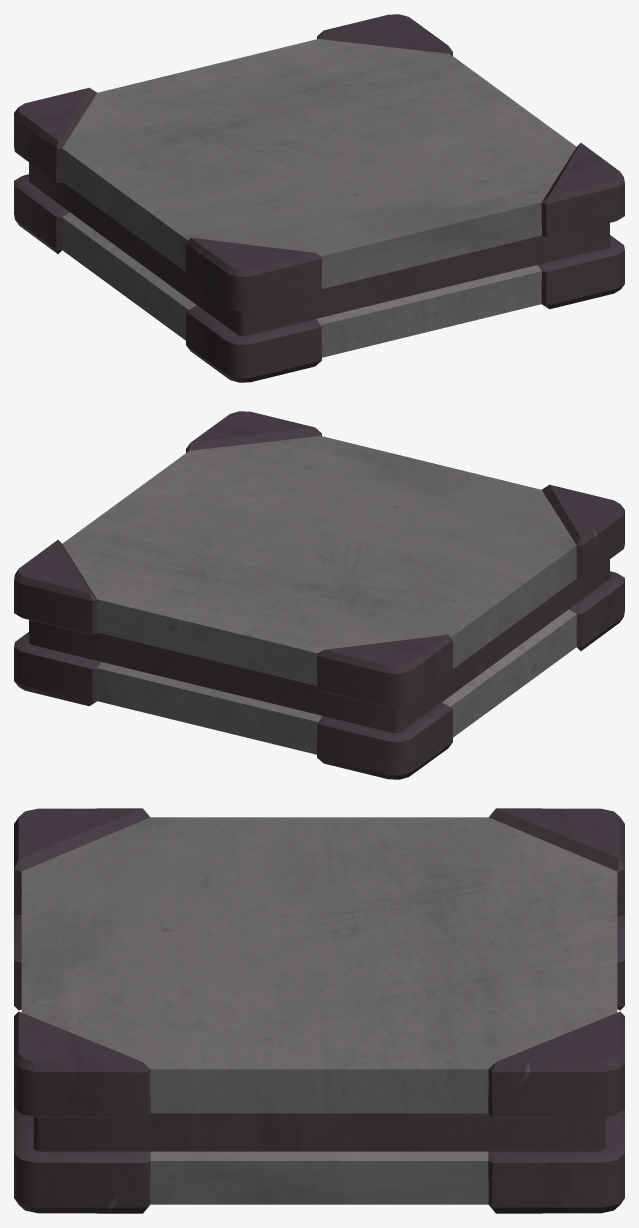
File: metal.glb
3 renders of one model, top to bottom at view 1: azimuth 30°, elevation 25°; view 2: azimuth 150°, elevation 25°; view 3: azimuth 270°, elevation 25°, orthographic. The views are drawn at different scales.
Parts seen in each view (by area): view 1: metal; view 2: metal; view 3: metal.
Part boxes in pixels (x1=…): metal: x1=14, y1=14, x2=624, y2=382; metal: x1=14, y1=411, x2=624, y2=779; metal: x1=14, y1=808, x2=624, y2=1213.
Size of the model in its own units: 0.1619 by 0.0443 by 0.1619.
Materials: 1 (1 with a texture image).
